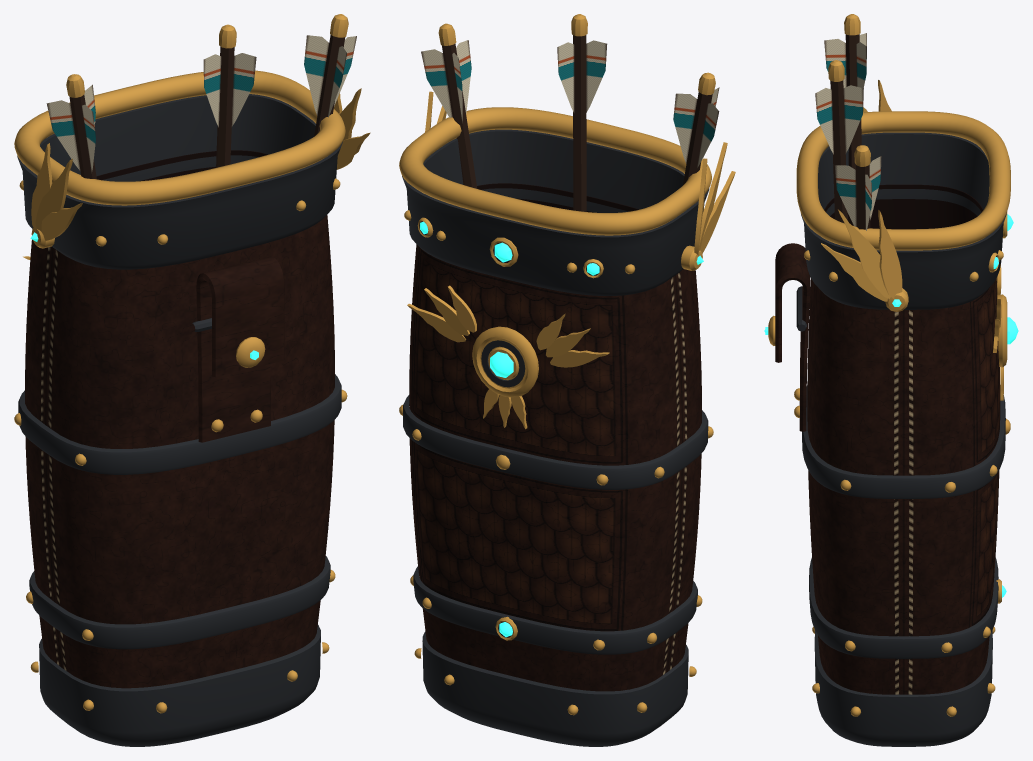
The model's file is quiver.glb.
3 views of the same model, side by side, from view 1: azimuth 30°, elevation 25°; view 2: azimuth 150°, elevation 25°; view 3: azimuth 270°, elevation 25° (orthographic). The views are drawn at different scales.
Visible parts, largest first — view 1: QuiverBody, QuiverMouth, BeltLoop, BoltFletching; view 2: QuiverBody, QuiverMouth, BoltFletching; view 3: QuiverBody, QuiverMouth, BoltFletching, BeltLoop.
Part boxes in pixels (<box>): QuiverBody: <box>14,150,347,746</box>; QuiverMouth: <box>14,70,370,269</box>; BeltLoop: <box>192,256,284,442</box>; BoltFletching: <box>46,14,356,179</box>; QuiverBody: <box>399,183,713,746</box>; QuiverMouth: <box>399,91,735,295</box>; BoltFletching: <box>421,14,719,211</box>; QuiverBody: <box>802,184,1018,746</box>; QuiverMouth: <box>796,80,1013,311</box>; BoltFletching: <box>815,14,881,230</box>; BeltLoop: <box>764,243,810,431</box>.
Size of the model in its own units: 0.1921 by 0.4334 by 0.1468.
7 materials, 2 textured.
